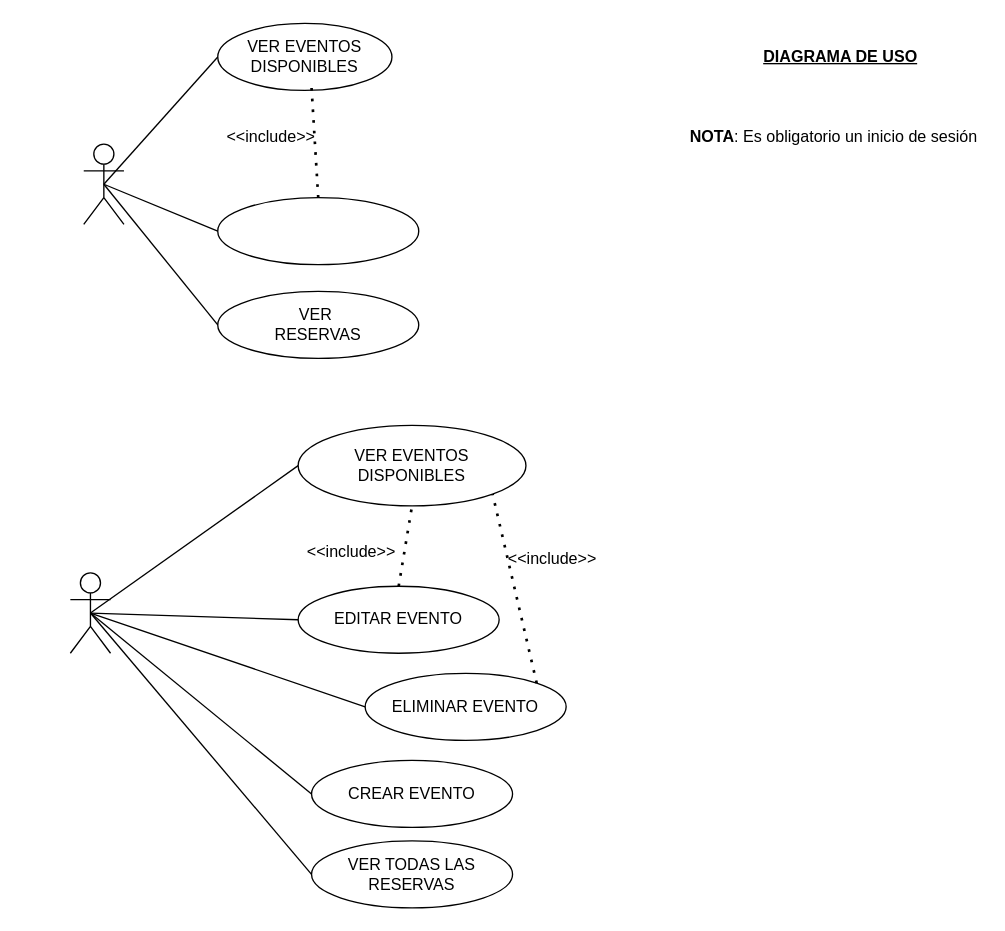
The diagram is 1005 pixels wide and 931 high, and some of its shapes have lost their labels. The centre of each missing label's shape, as x and y in pixels:
"ADMINISTRADOR" belongs at point (90, 612).
"REALIZAR RESERVAS" belongs at point (317, 230).
"USUARIO GENERAL" belongs at point (103, 183).
